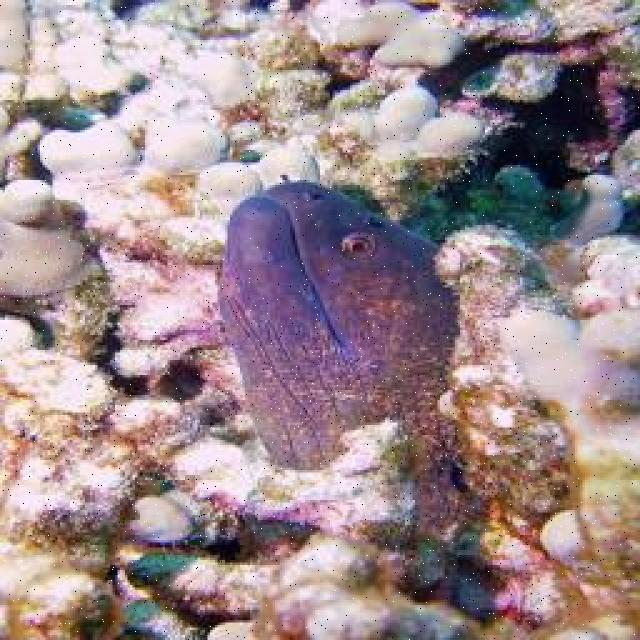fish: (218, 180, 487, 542)
reefs: (0, 118, 638, 638)
